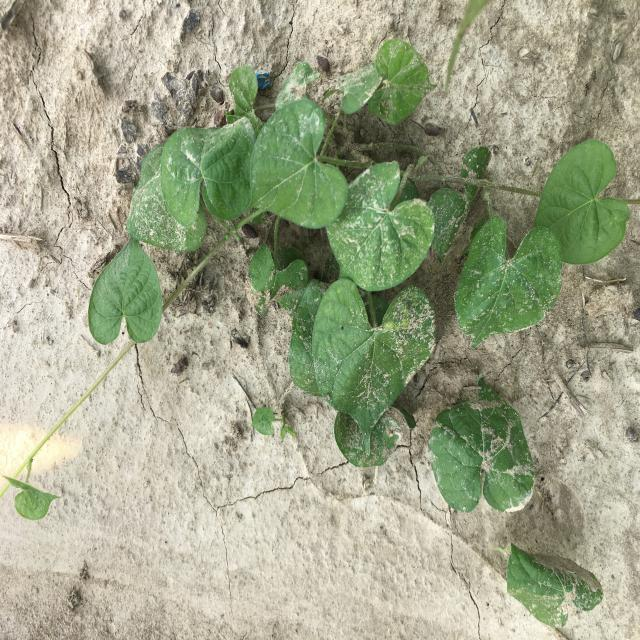MorningGlory: (0, 37, 631, 523)
